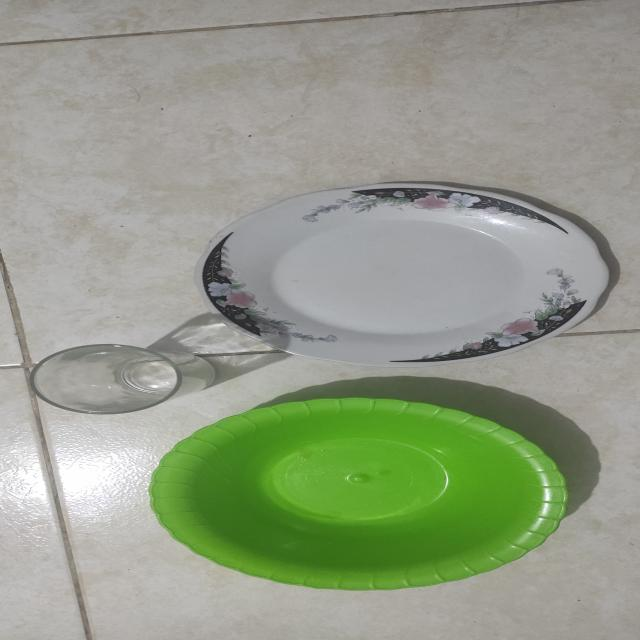non-organic waste: (132, 388, 607, 600), (177, 172, 637, 371)
